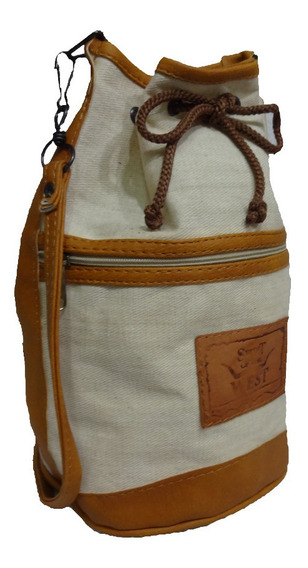cartera: (13, 28, 290, 539)
